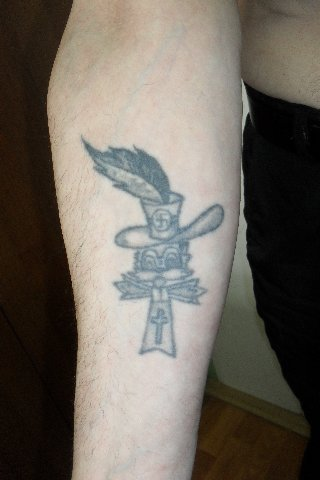tatu8_kot: (78, 103, 226, 363)
